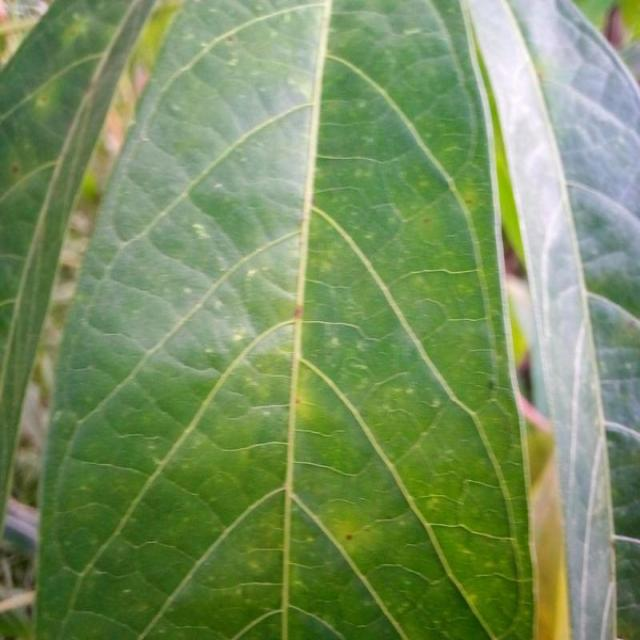cassava leaf: (21, 0, 636, 638)
